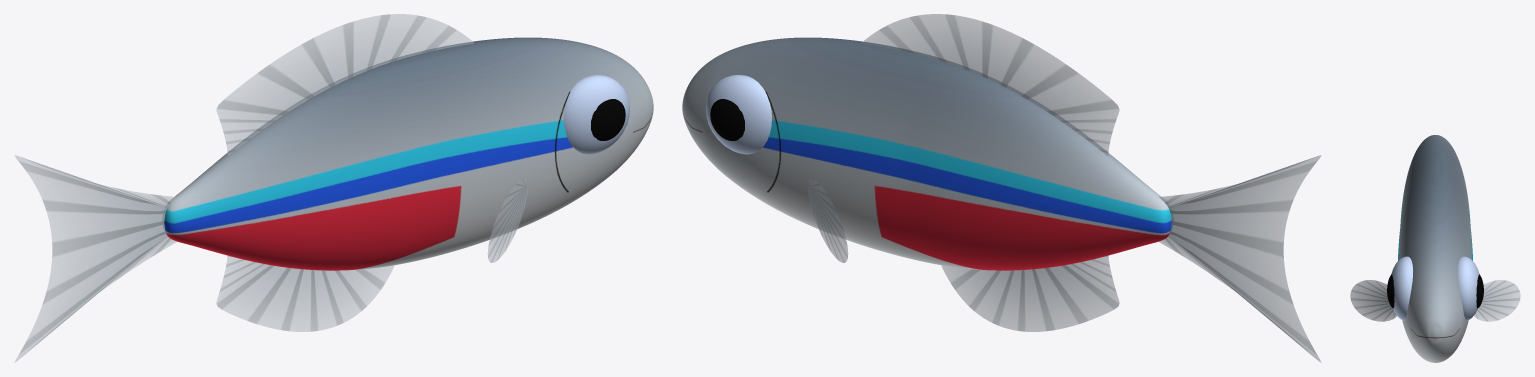
Rendered from neon.glb.
3 renders of one model, left to right at view 1: azimuth 30°, elevation 25°; view 2: azimuth 150°, elevation 25°; view 3: azimuth 270°, elevation 25°, orthographic. The views are drawn at different scales.
Visible parts, largest first — view 1: body, tail, dorsal, anal, Sphere, pec-1, Sphere.001; view 2: body, tail, dorsal, anal, Sphere.002, pec1, Sphere.003; view 3: body, pec-1, pec1, Sphere, Sphere.002, Sphere.001, Sphere.003.
Boxes of the visible parts, x1,y1,x2,y2 form: body: [164, 37, 653, 270]; tail: [14, 155, 176, 362]; dorsal: [216, 14, 473, 155]; anal: [216, 256, 394, 331]; Sphere: [564, 75, 629, 154]; pec-1: [487, 179, 527, 262]; Sphere.001: [591, 99, 625, 140]; body: [682, 37, 1171, 270]; tail: [1159, 155, 1321, 362]; dorsal: [862, 14, 1119, 155]; anal: [941, 256, 1119, 331]; Sphere.002: [706, 75, 771, 154]; pec1: [808, 179, 848, 262]; Sphere.003: [710, 99, 744, 140]; body: [1398, 135, 1472, 362]; pec-1: [1350, 280, 1396, 321]; pec1: [1474, 280, 1520, 321]; Sphere: [1391, 256, 1412, 320]; Sphere.002: [1458, 256, 1479, 320]; Sphere.001: [1387, 274, 1394, 308]; Sphere.003: [1476, 274, 1483, 308].
Bounding box in the file's own units: 1.31 × 0.5943 × 0.3929.
Materials: 5 (3 with a texture image).
